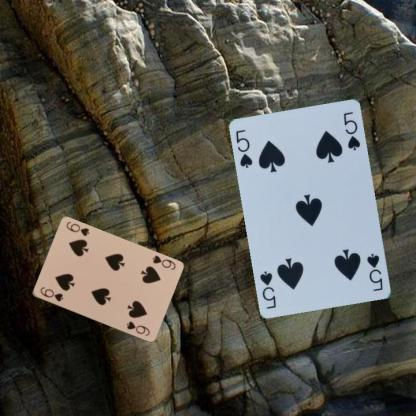5s: (234, 127, 254, 170), (364, 251, 384, 293)
6s: (37, 284, 64, 303), (150, 252, 176, 271)
